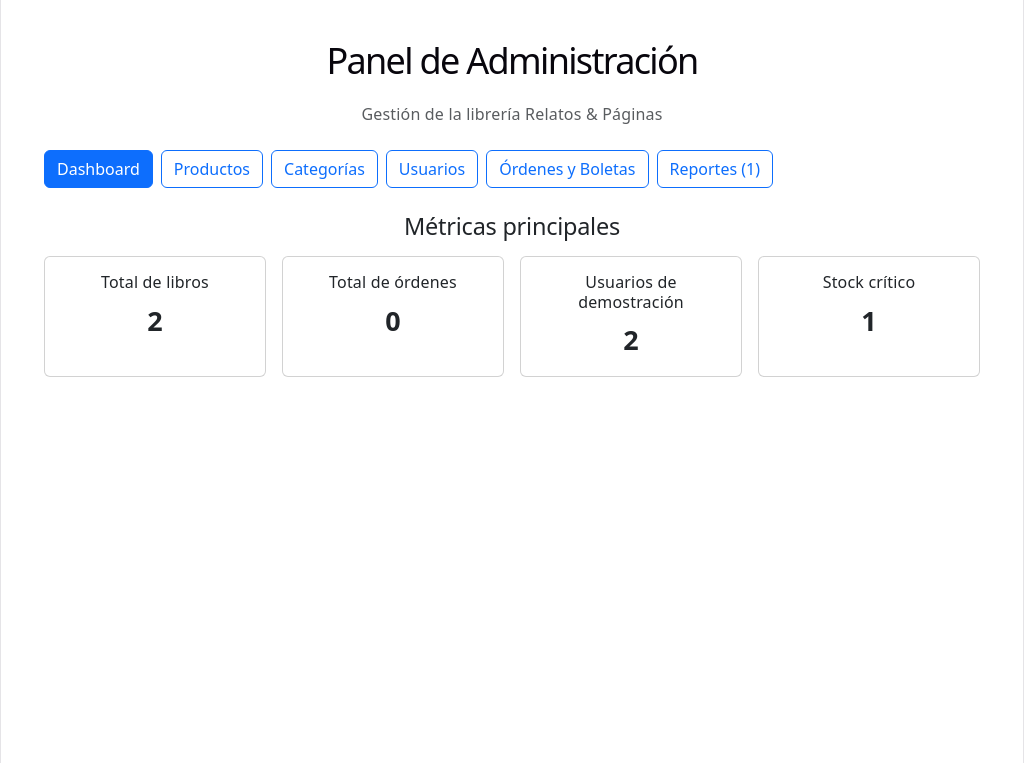
it: Pruebas unitarias - Administración de librería › 7. Crear un libro desde el formulario
The width and height of the screenshot is (1024, 763).
Step 1. Click the button "Productos" → (212, 169), box 161,150 -> 263,188
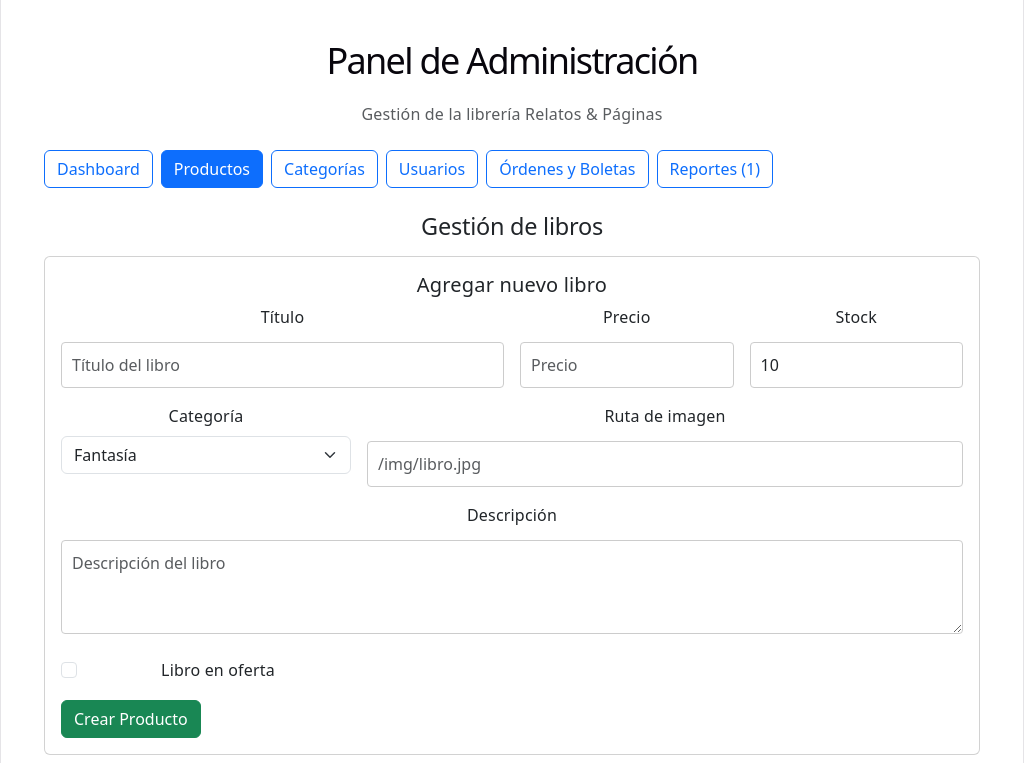
Step 2. Type "El Principito" into the field with placeholder "Título del libro" → (282, 365), box 61,342 -> 504,388
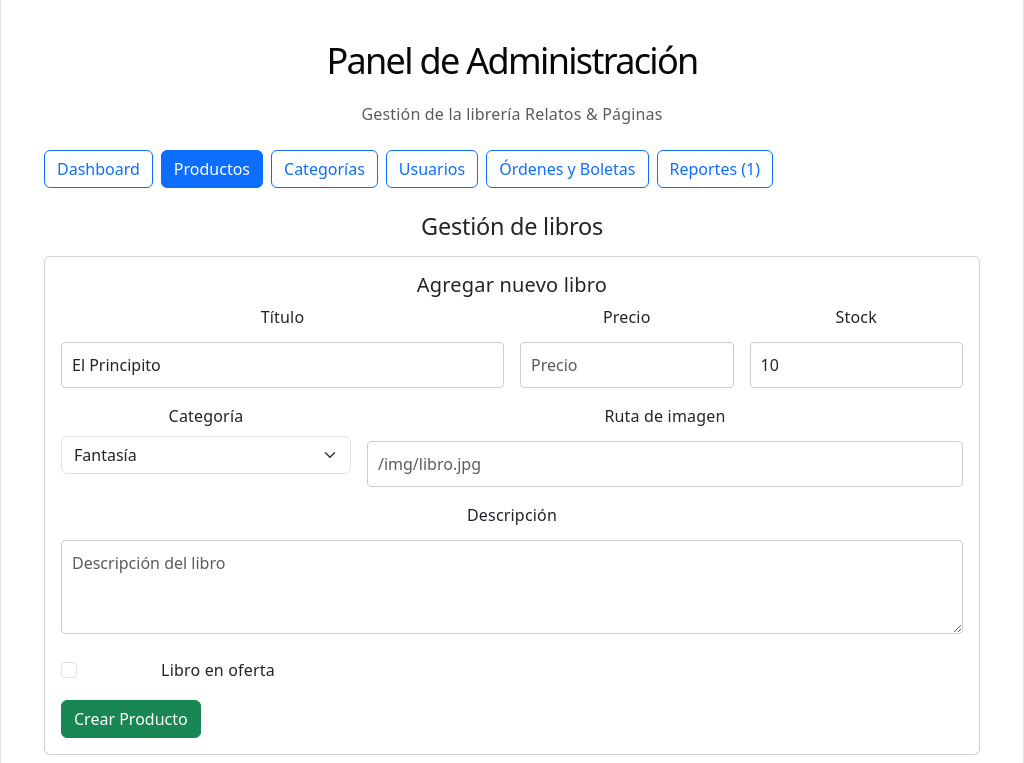
Step 3. Type "12990" into the number field with placeholder "Precio" → (627, 365), box 520,342 -> 734,388
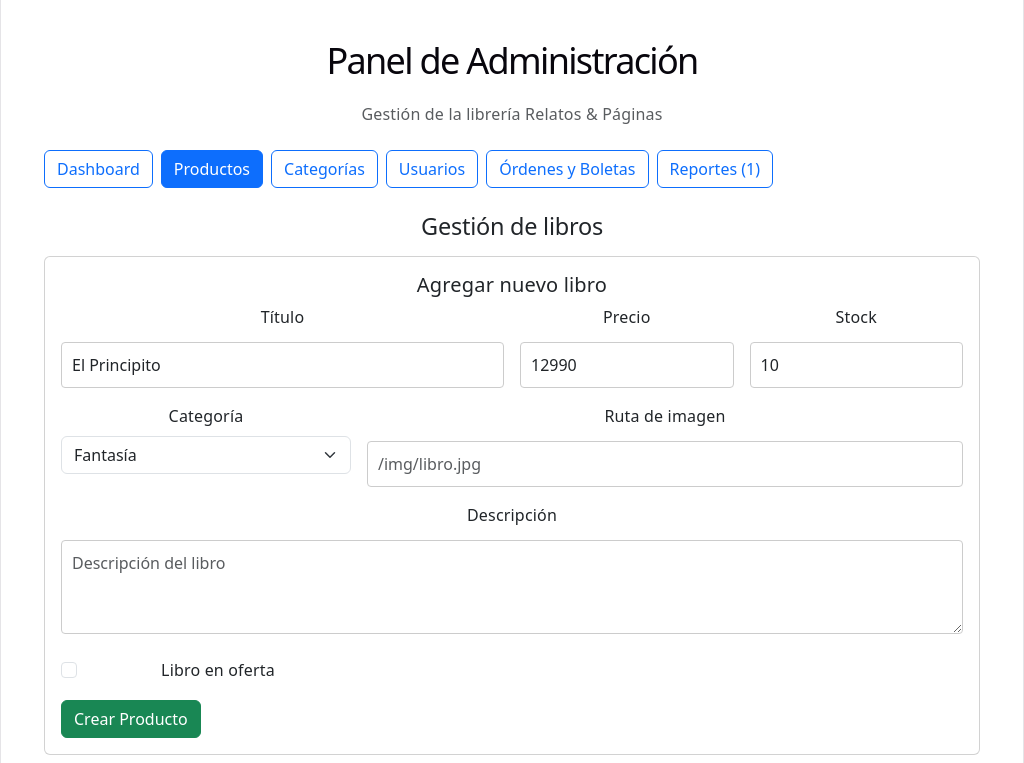
Step 4. Click the button "Crear Producto" → (131, 719), box 61,700 -> 201,738
(page scrolled)
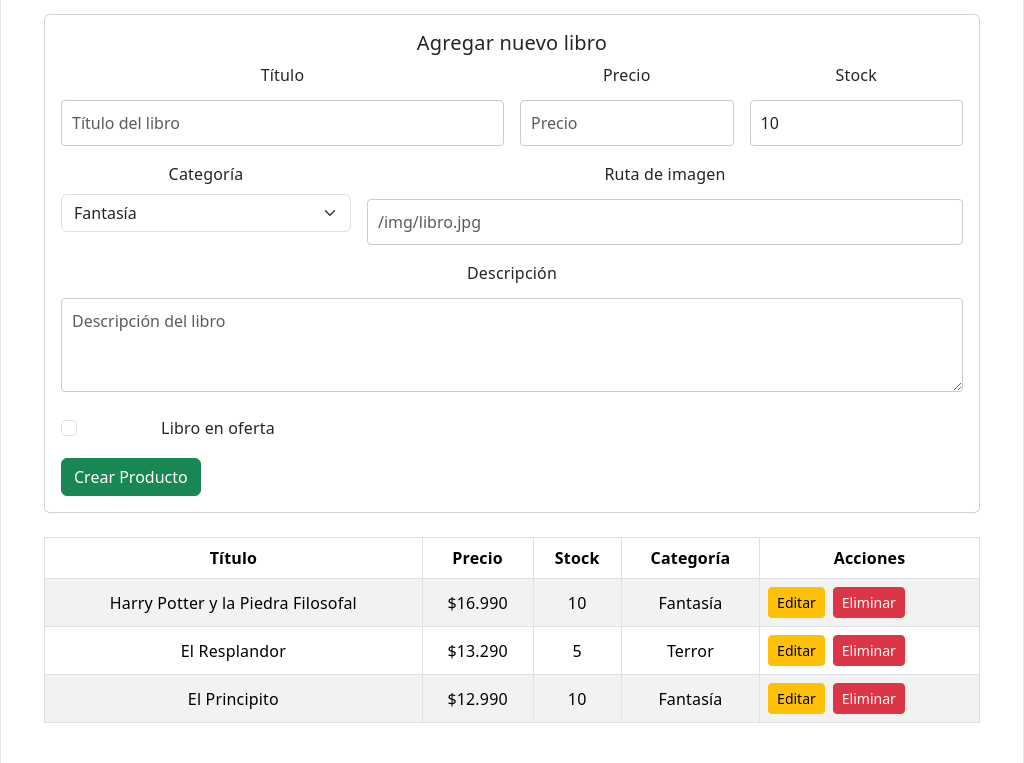
Result: the text "El Principito" is shown at 44,675 -> 422,723
Result: the number of rows with test id "fila-producto" is 3 at 44,579 -> 980,627; 44,627 -> 980,675; 44,675 -> 980,723
